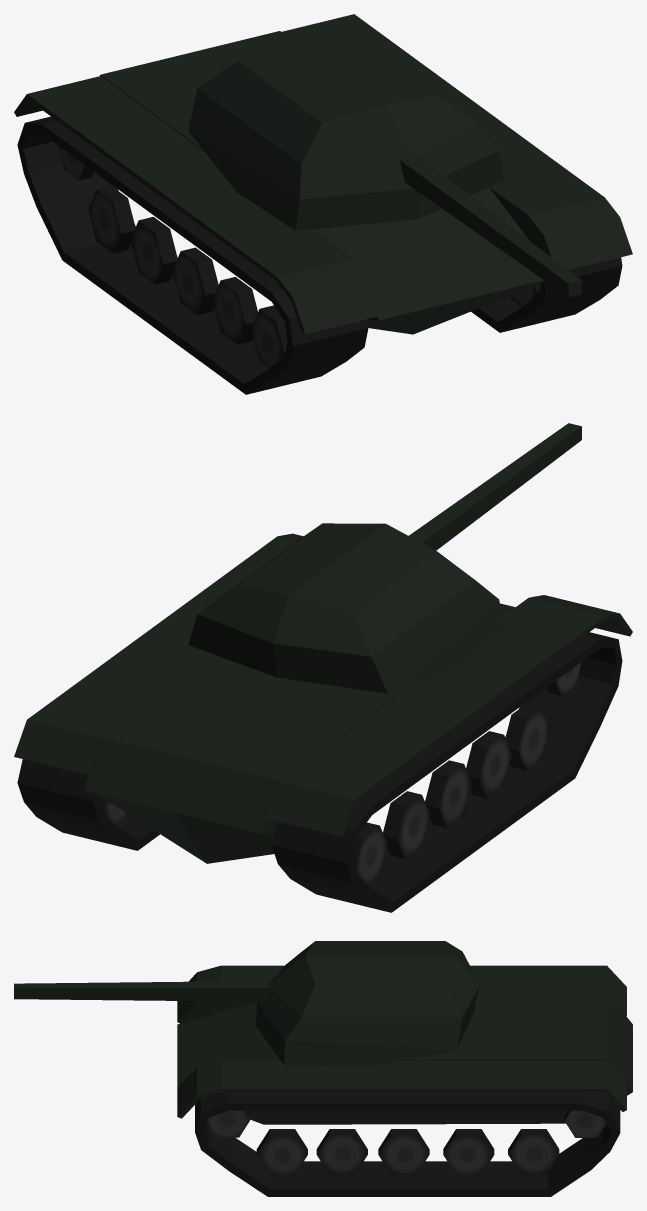
3 views of the same model, one above another, from view 1: azimuth 30°, elevation 25°; view 2: azimuth 150°, elevation 25°; view 3: azimuth 270°, elevation 25° (orthographic). The views are drawn at different scales.
Visible parts, largest first — view 1: body, gun_tower, chain; view 2: body, chain, gun_tower; view 3: body, chain, gun_tower.
Part boxes in pixels (x1,y1,x2,y2): body: [14, 14, 632, 334]; gun_tower: [188, 33, 581, 297]; chain: [17, 116, 622, 394]; body: [14, 533, 632, 863]; chain: [17, 632, 622, 912]; gun_tower: [188, 423, 581, 693]; body: [177, 965, 632, 1124]; chain: [195, 1092, 620, 1196]; gun_tower: [14, 941, 479, 1066].
Size of the model in its own units: 874 by 590 by 1846.
